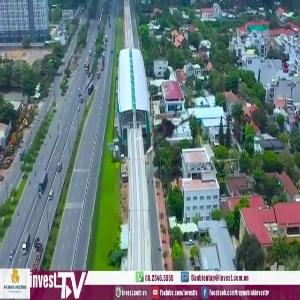drone: (133, 100, 208, 175)
